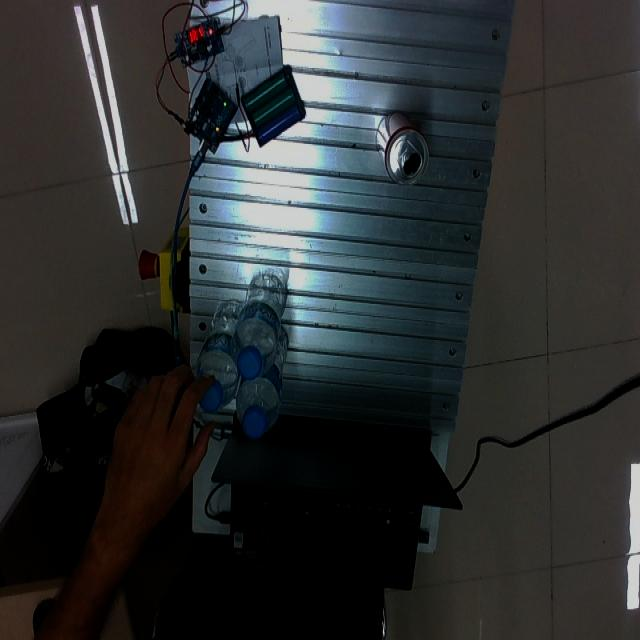coca: (377, 113, 430, 187)
lavie: (233, 272, 288, 382), (236, 324, 287, 439), (194, 301, 242, 415)
